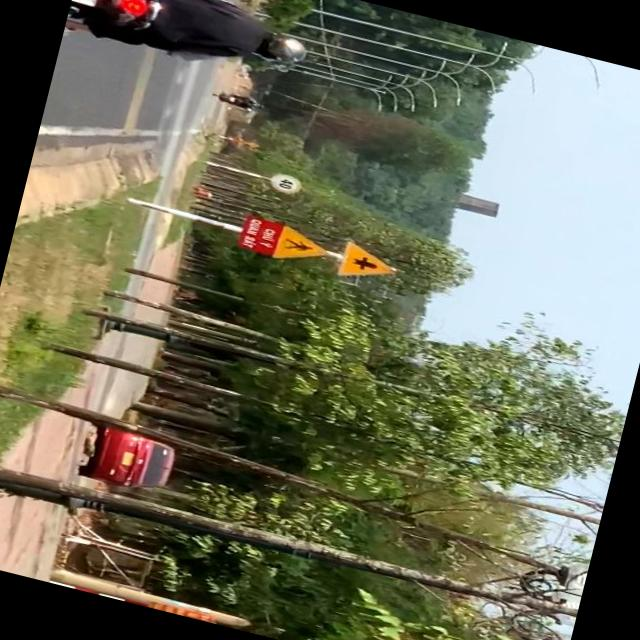W-207a: (334, 237, 404, 289)
W-224: (268, 220, 336, 272)
